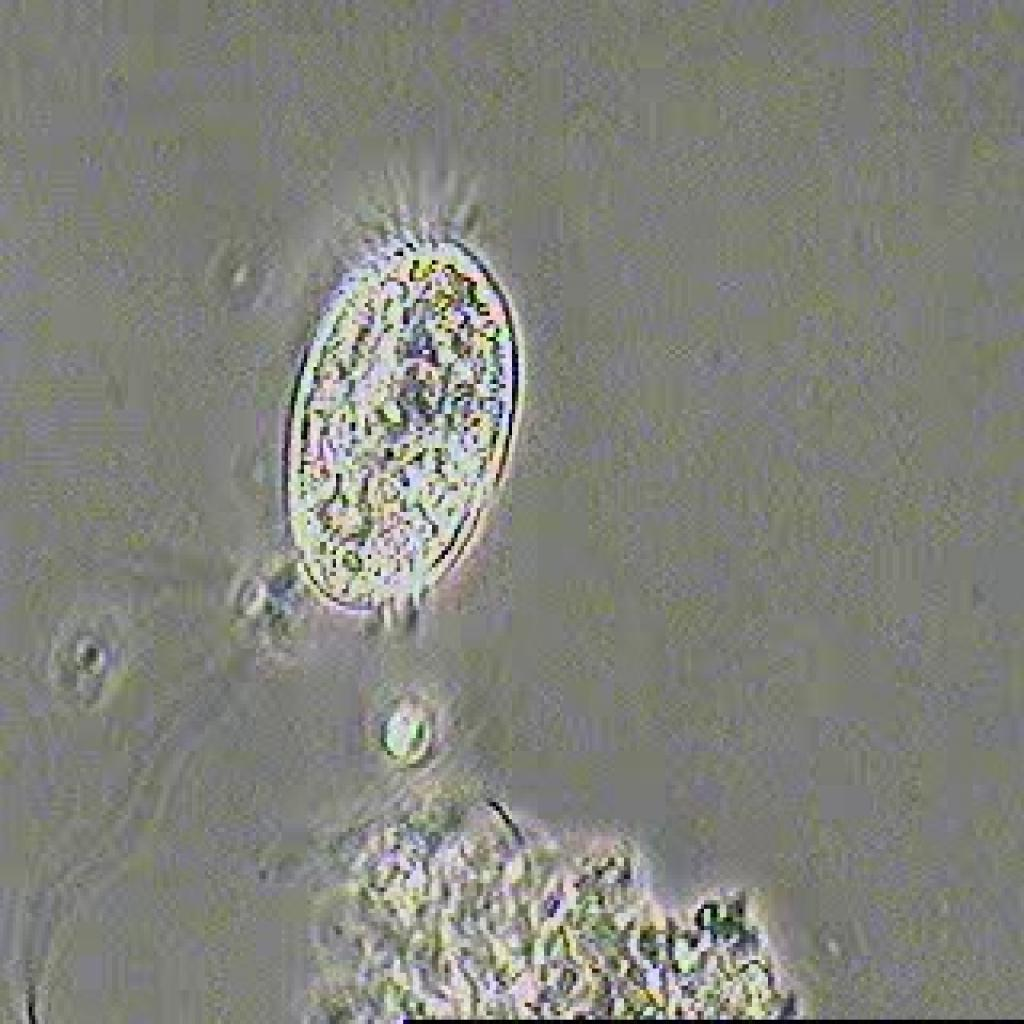Chilodonella: (238, 132, 558, 678)
